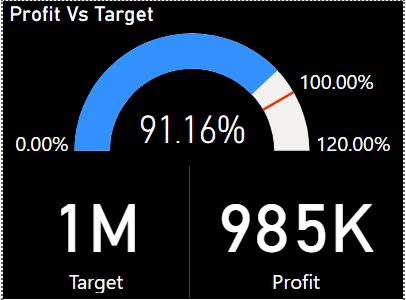

The page's visual inventory and layout, read from the dashboard file:
{"tool":"powerbi","page":{"name":"Profit Vs Target","canvas":[320,240],"ordinal":1},"visuals":[{"type":"gauge","fields":{"Y":["#Measure.Target Vs Profit"]},"box":[0,0,319.7,132.4],"z":0},{"type":"card","fields":{"Values":["#Measure.Target"]},"box":[0,132.4,149.3,107],"z":1000},{"type":"card","fields":{"Values":["#Measure.Profit"]},"box":[149.3,132.4,170.4,107],"z":2000}]}

Visuals, with their boxes in screenshot pixels (x1, y1, x2, y2), scaled from the page's 320x240 canvas onto the 406x300 screenshot:
gauge - #Measure.Target Vs Profit: 0 0 405 166
card - #Measure.Target: 0 166 189 299
card - #Measure.Profit: 189 166 405 299
